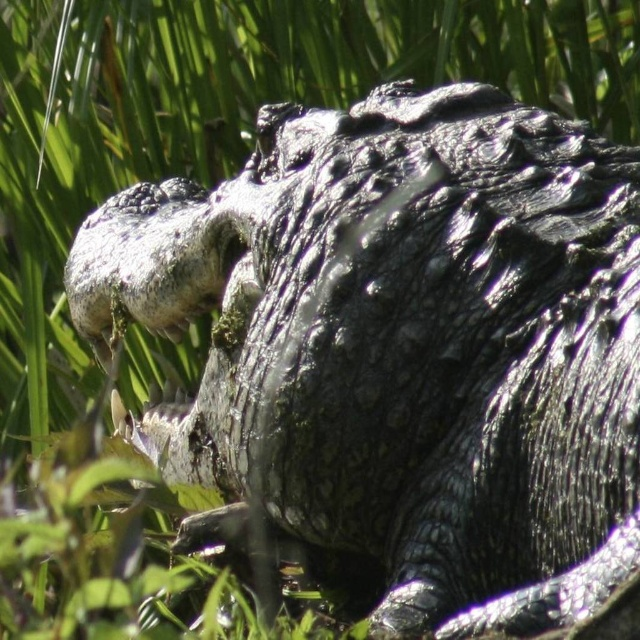Crocodile: (63, 79, 640, 640)
